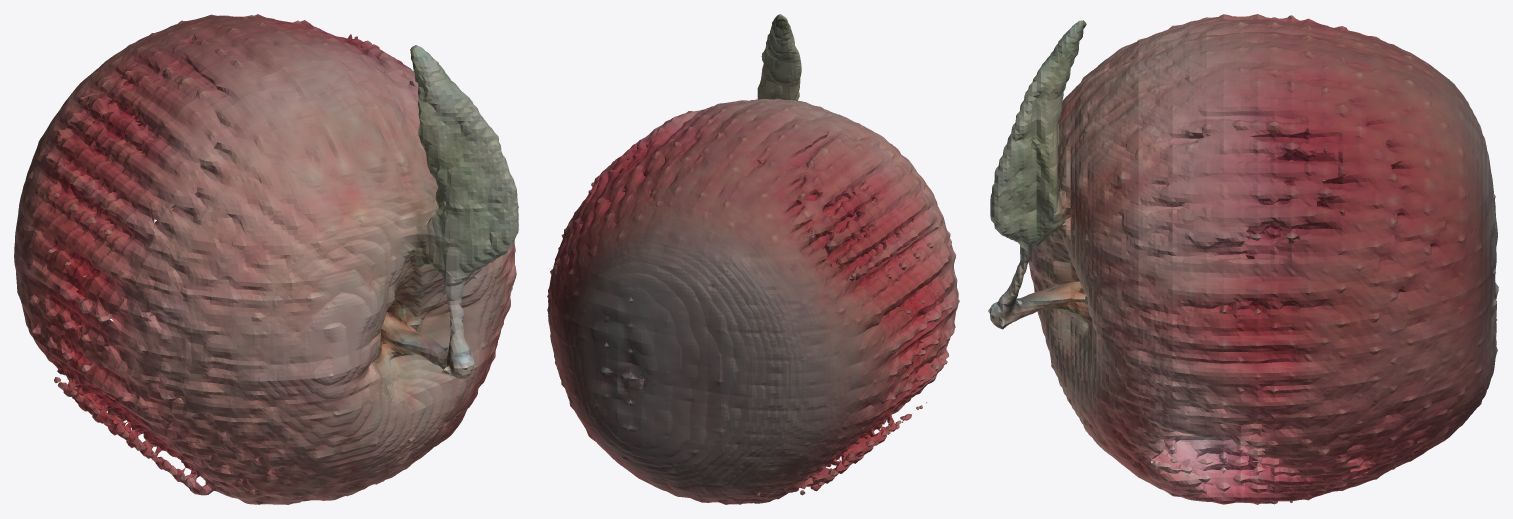
The model's file is 161fac24-9619-48be-bdb6-4ce4b5094add.glb.
3 renders of one model, left to right at view 1: azimuth 30°, elevation 25°; view 2: azimuth 150°, elevation 25°; view 3: azimuth 270°, elevation 25°, orthographic. The views are drawn at different scales.
Visible parts, largest first — view 1: world; view 2: world; view 3: world.
Part boxes in pixels (left/top/right/bottom): world: left=14, top=14, right=518, bottom=504; world: left=547, top=14, right=959, bottom=504; world: left=988, top=14, right=1498, bottom=504.
Size of the model in its own units: 0.7764 by 0.8595 by 0.8173.
